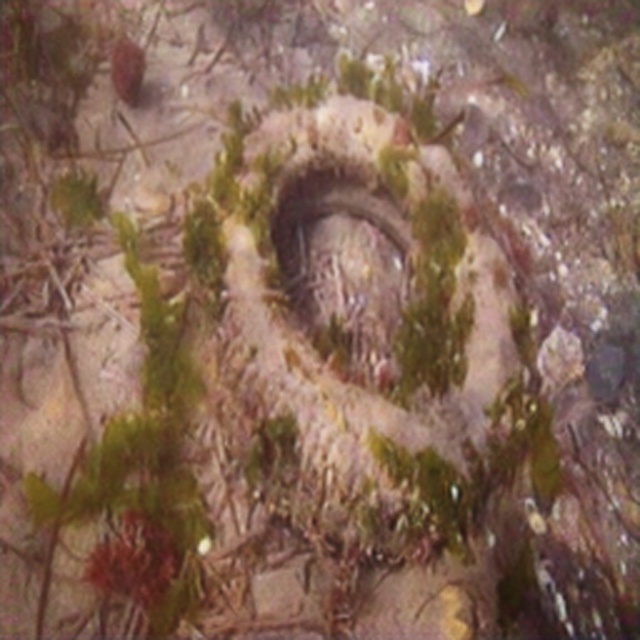mine: (195, 93, 525, 562)
